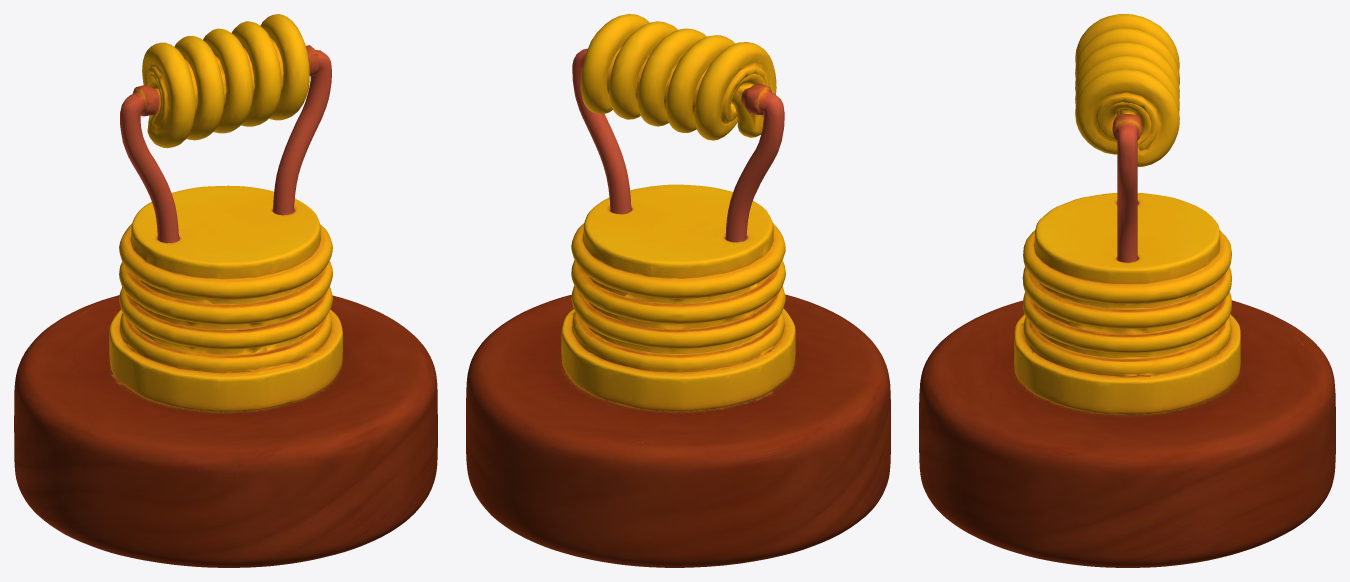
Rendered from lamp.glb.
The picture shows the model from 3 angles, left to right: view 1: azimuth 30°, elevation 25°; view 2: azimuth 150°, elevation 25°; view 3: azimuth 270°, elevation 25°; orthographic projection. The views are drawn at different scales.
Parts seen in each view (by area): view 1: tripo_node_0a2f6764-c008-42b5-8de3-6aa360c86cc9; view 2: tripo_node_0a2f6764-c008-42b5-8de3-6aa360c86cc9; view 3: tripo_node_0a2f6764-c008-42b5-8de3-6aa360c86cc9.
Boxes of the visible parts, left/top/right/bottom form: tripo_node_0a2f6764-c008-42b5-8de3-6aa360c86cc9: left=14, top=14, right=437, bottom=567; tripo_node_0a2f6764-c008-42b5-8de3-6aa360c86cc9: left=466, top=14, right=890, bottom=567; tripo_node_0a2f6764-c008-42b5-8de3-6aa360c86cc9: left=919, top=14, right=1335, bottom=567.
Bounding box in the file's own units: 0.8327 × 0.9795 × 0.8322.
1 material, 1 textured.
